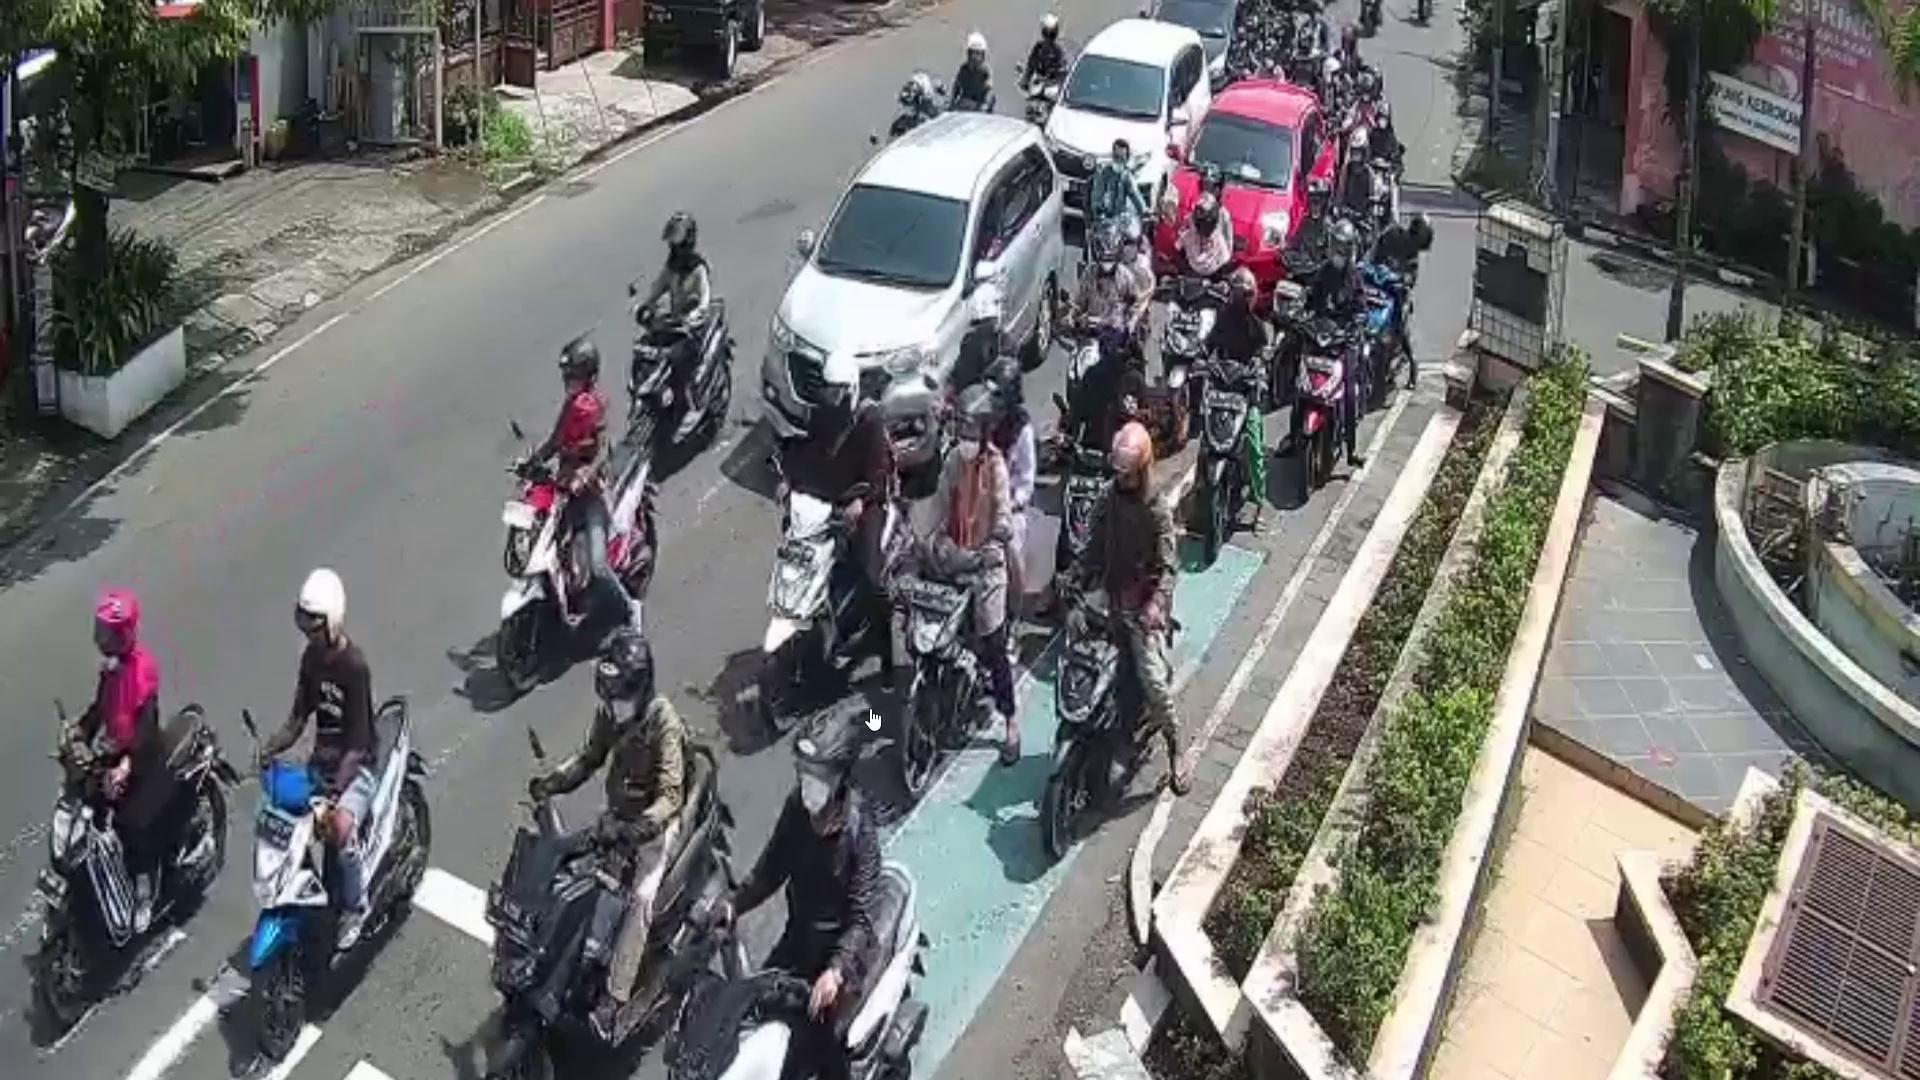car: (754, 119, 1058, 472), (1158, 78, 1338, 303), (1052, 18, 1213, 215), (1143, 0, 1259, 88)
motorbike: (480, 745, 731, 1080), (252, 695, 434, 1065), (40, 687, 224, 1030), (675, 858, 919, 1080), (495, 442, 655, 695), (757, 485, 903, 731), (1044, 595, 1174, 866), (890, 533, 990, 794), (630, 298, 733, 440), (1191, 359, 1254, 562), (1288, 322, 1352, 506), (1354, 265, 1400, 405)
